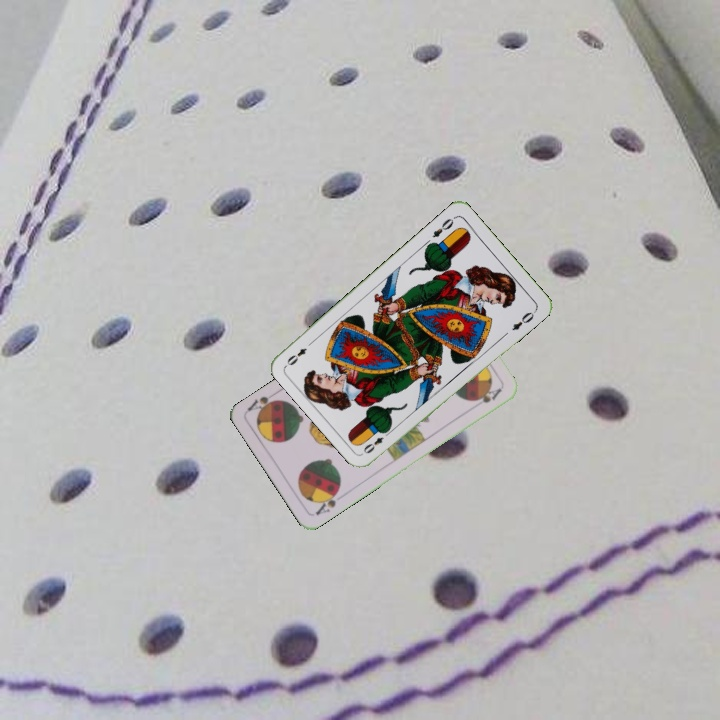EO: (359, 425, 394, 456), (428, 213, 458, 240)
SA: (311, 485, 342, 518)
